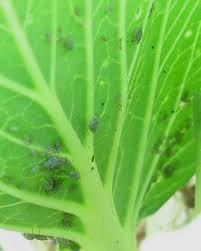Bok-Choy-Diseased: (0, 15, 201, 251)
